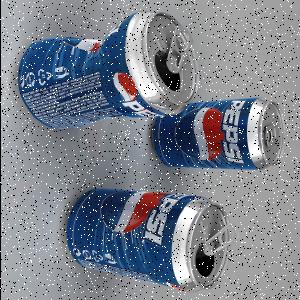Can: (15, 10, 202, 136), (65, 184, 241, 296), (150, 97, 288, 174)
